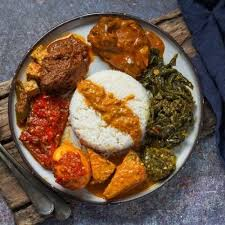Nasi padang: (16, 19, 194, 202)
